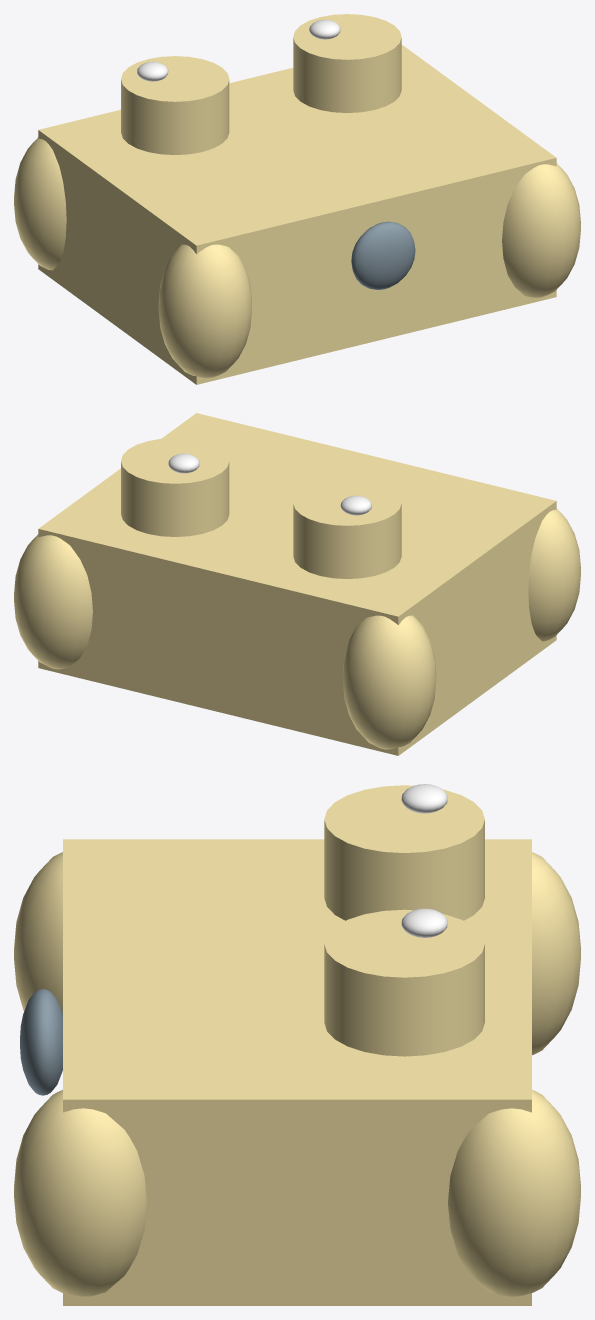
File: block-yellow.glb
3 renders of one model, top to bottom at view 1: azimuth 30°, elevation 25°; view 2: azimuth 150°, elevation 25°; view 3: azimuth 270°, elevation 25°, orthographic. The views are drawn at different scales.
Parts seen in each view (by area): view 1: rounded body, rounded corner (×3), top peg (×2), front dot, peg shine (×2); view 2: rounded body, rounded corner (×3), top peg (×2), peg shine (×2); view 3: rounded body, rounded corner (×4), top peg (×2), front dot, peg shine (×2).
Part boxes in pixels (x1,y1,x2,y2): rounded body: (38,44,556,384); rounded corner (×3): (14,137,580,378); top peg (×2): (121,14,401,154); front dot: (351,221,415,289); peg shine (×2): (137,19,340,81); rounded body: (38,413,556,755); rounded corner (×3): (14,508,580,749); top peg (×2): (121,438,401,578); peg shine (×2): (168,453,371,515); rounded body: (63,839,531,1305); rounded corner (×4): (14,852,580,1297); top peg (×2): (324,785,484,1056); front dot: (20,989,62,1095); peg shine (×2): (401,784,447,937).
Size of the model in its own units: 1.05 by 0.518 by 0.8468.
